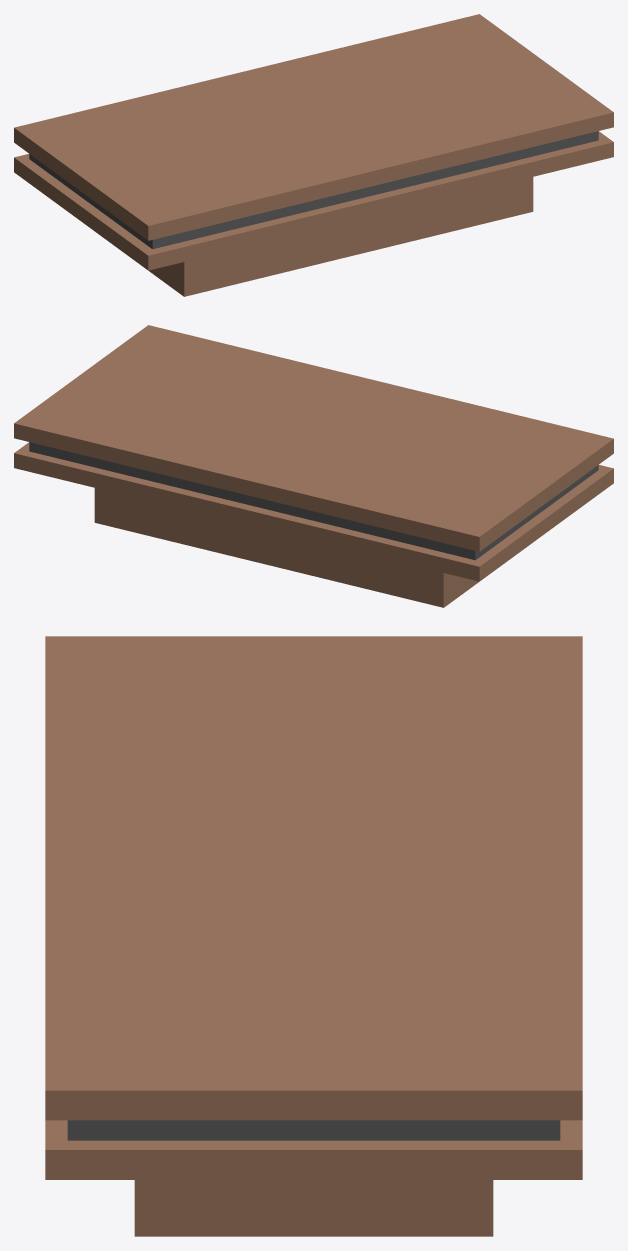
The model's file is 408_センターテーブル.glb.
3 views of the same model, one above another, from view 1: azimuth 30°, elevation 25°; view 2: azimuth 150°, elevation 25°; view 3: azimuth 270°, elevation 25° (orthographic). The views are drawn at different scales.
Visible parts, largest first — view 1: 408_センターテーブル; view 2: 408_センターテーブル; view 3: 408_センターテーブル.
Part boxes in pixels (box(x1,y1,x2,y2)): 408_センターテーブル: box(14, 14, 613, 296); 408_センターテーブル: box(14, 325, 613, 607); 408_センターテーブル: box(45, 636, 582, 1236).
Size of the model in its own units: 1.2 by 0.25 by 0.6.
